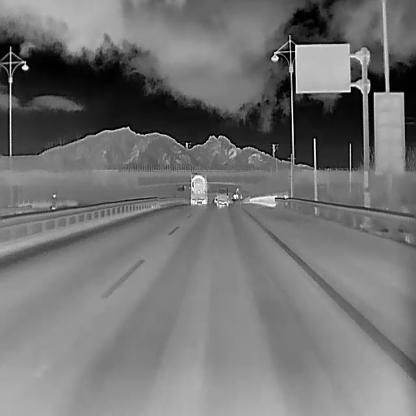car: (216, 187, 228, 205), (213, 196, 217, 203)
truck: (189, 172, 207, 205)
